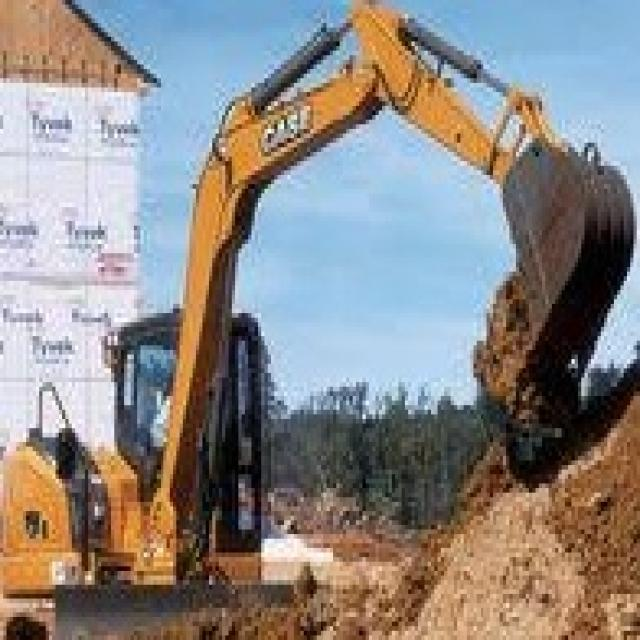excavator: (5, 312, 298, 601)
